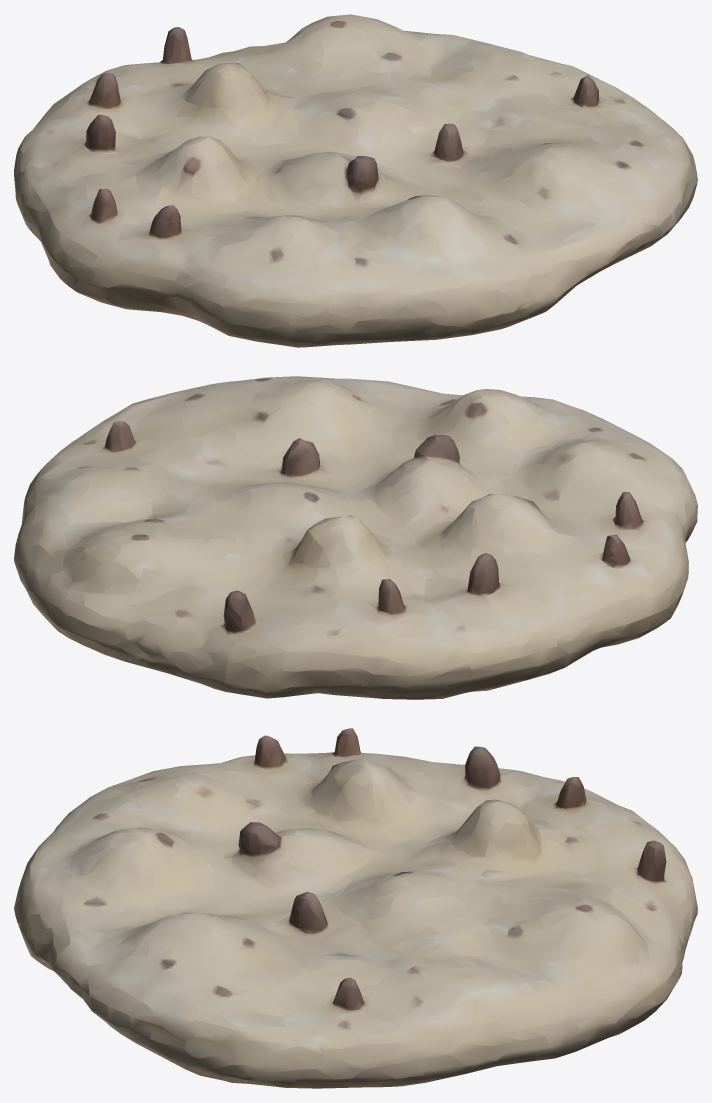
The model's file is 0007_mask_008_cookie.glb.
The picture shows the model from 3 angles, top to bottom: view 1: azimuth 30°, elevation 25°; view 2: azimuth 150°, elevation 25°; view 3: azimuth 270°, elevation 25°; orthographic projection. The views are drawn at different scales.
Visible parts, largest first — view 1: mask_008_object; view 2: mask_008_object; view 3: mask_008_object.
Part boxes in pixels (left/top/right/bottom): mask_008_object: left=14, top=14, right=697, bottom=347; mask_008_object: left=14, top=376, right=697, bottom=699; mask_008_object: left=14, top=728, right=697, bottom=1088.
Bounding box in the file's own units: 0.1662 × 0.0311 × 0.1609.
